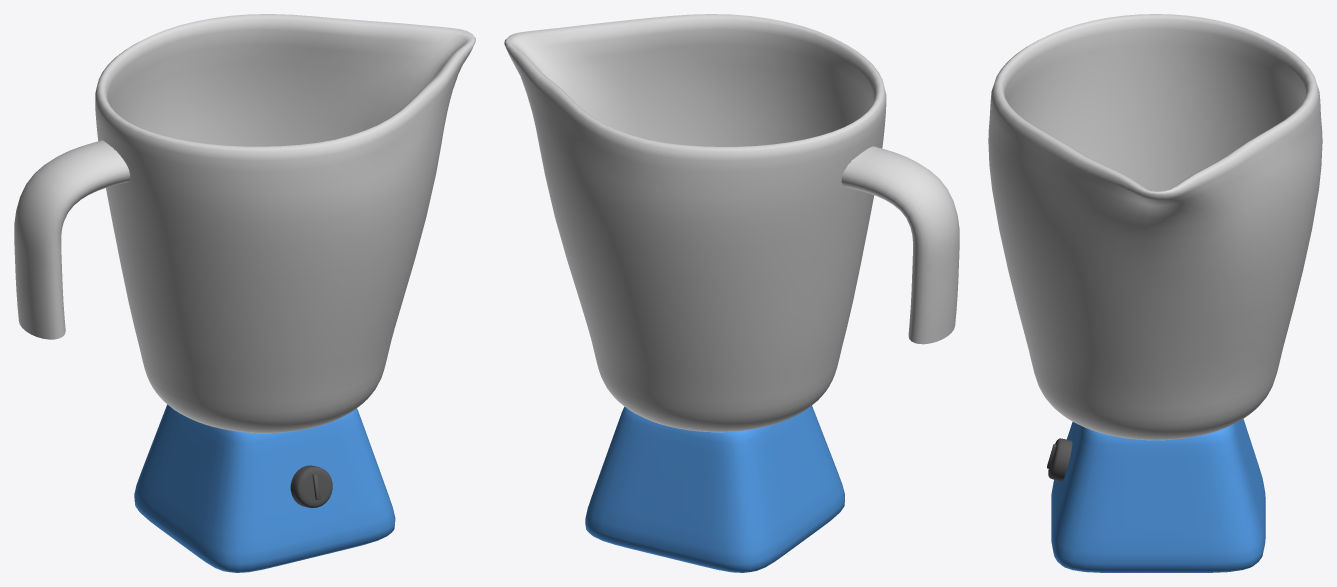
File: blender_1.fbx
3 renders of one model, left to right at view 1: azimuth 30°, elevation 25°; view 2: azimuth 150°, elevation 25°; view 3: azimuth 270°, elevation 25°, orthographic.
Parts seen in each view (by area): view 1: Plane.001, Cube.001; view 2: Plane.001, Cube.001; view 3: Plane.001, Cube.001.
Boxes of the visible parts, x1,y1,x2,y2 form: Plane.001: (14,14,475,433); Cube.001: (134,404,395,572); Plane.001: (504,14,959,432); Cube.001: (585,405,844,572); Plane.001: (988,14,1322,440); Cube.001: (1047,419,1265,572).
Bounding box in the file's own units: 1391 × 1326 × 891.
